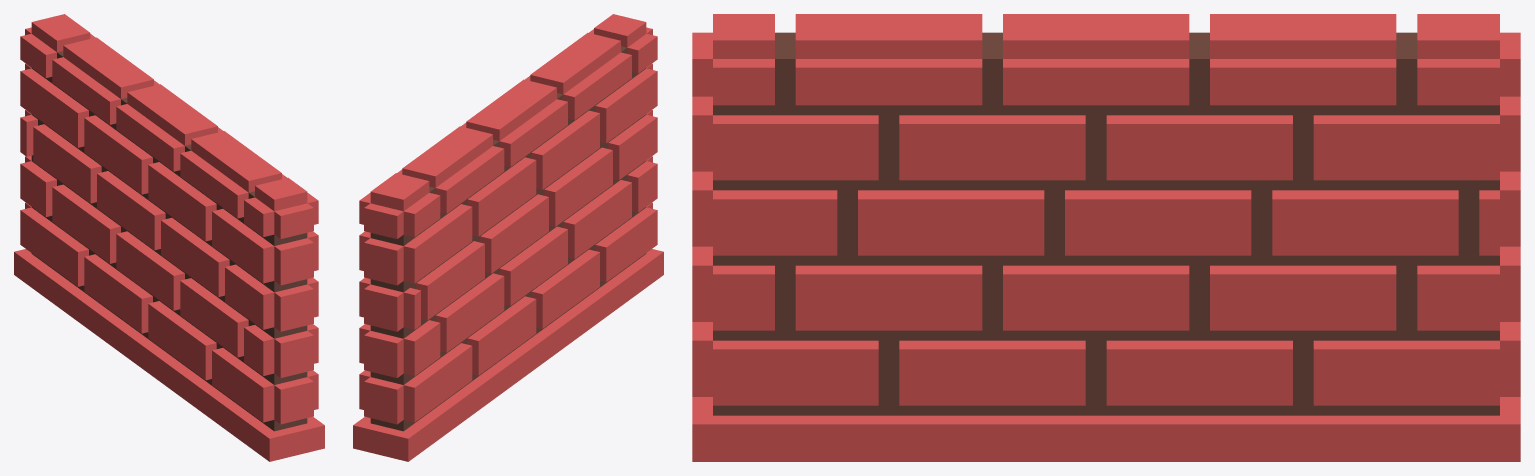
The model's file is All-17-Zabor_6.obj.
3 renders of one model, left to right at view 1: azimuth 30°, elevation 25°; view 2: azimuth 150°, elevation 25°; view 3: azimuth 270°, elevation 25°, orthographic. The views are drawn at different scales.
Visible parts, largest first — view 1: Zabor_6; view 2: Zabor_6; view 3: Zabor_6.
Part boxes in pixels (x1,y1,x2,y2): Zabor_6: (14,14,324,461); Zabor_6: (353,14,663,461); Zabor_6: (692,14,1520,461).
Bounding box in the file's own units: 0.5 × 2.2 × 4.
Materials: 1 (1 with a texture image).
